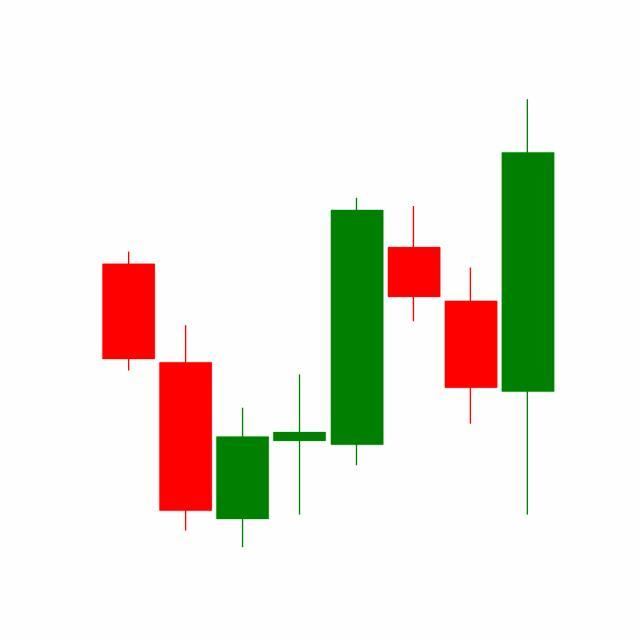Hikkake Pattern: (270, 100, 555, 521)
